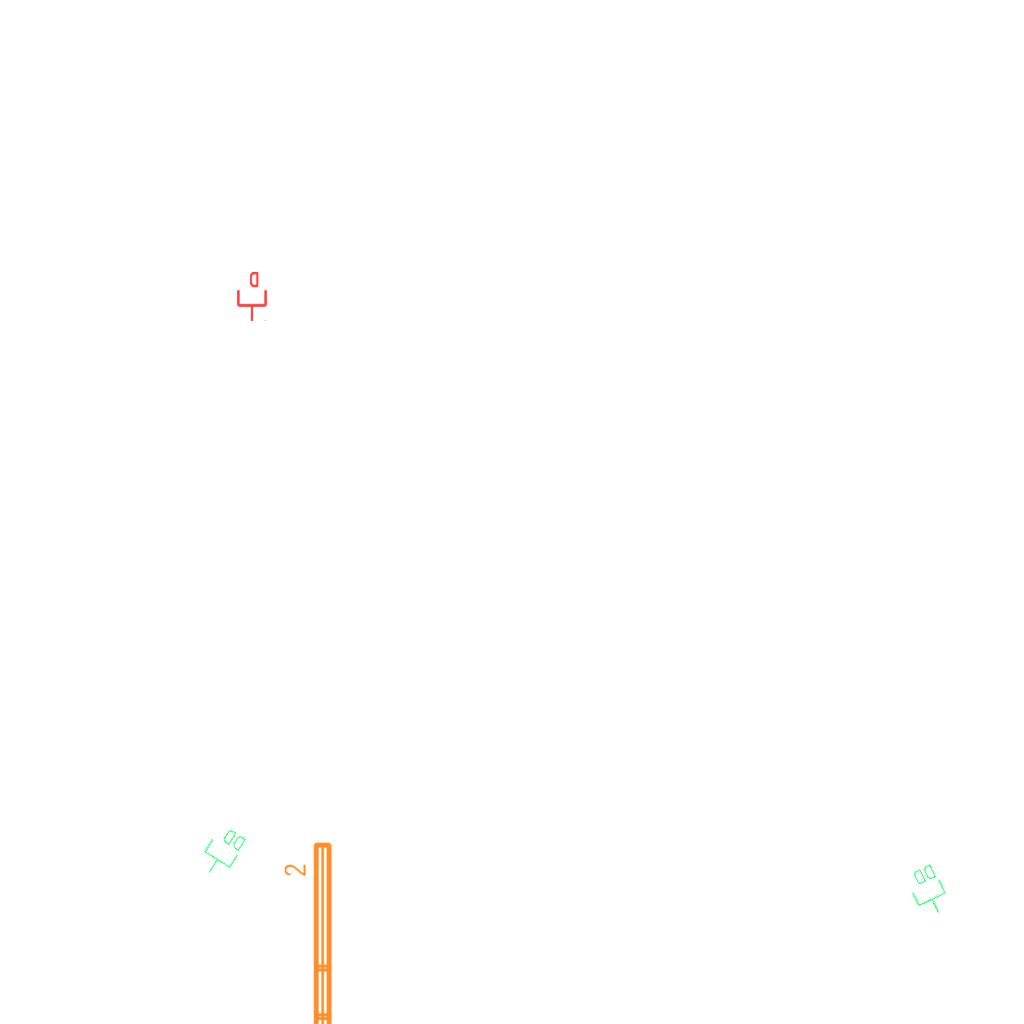Ambulanz_Pendelleuchte_LED: (282, 838, 338, 1024)
Datenanschluss_einfach: (235, 272, 269, 322)
Datenanschluss_zweifach: (194, 821, 251, 883), (902, 860, 955, 922)
